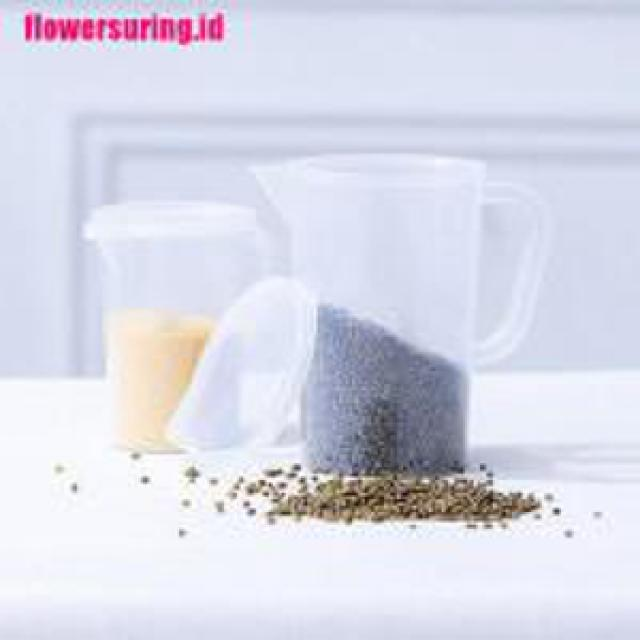plastic cup: (245, 145, 550, 478)
